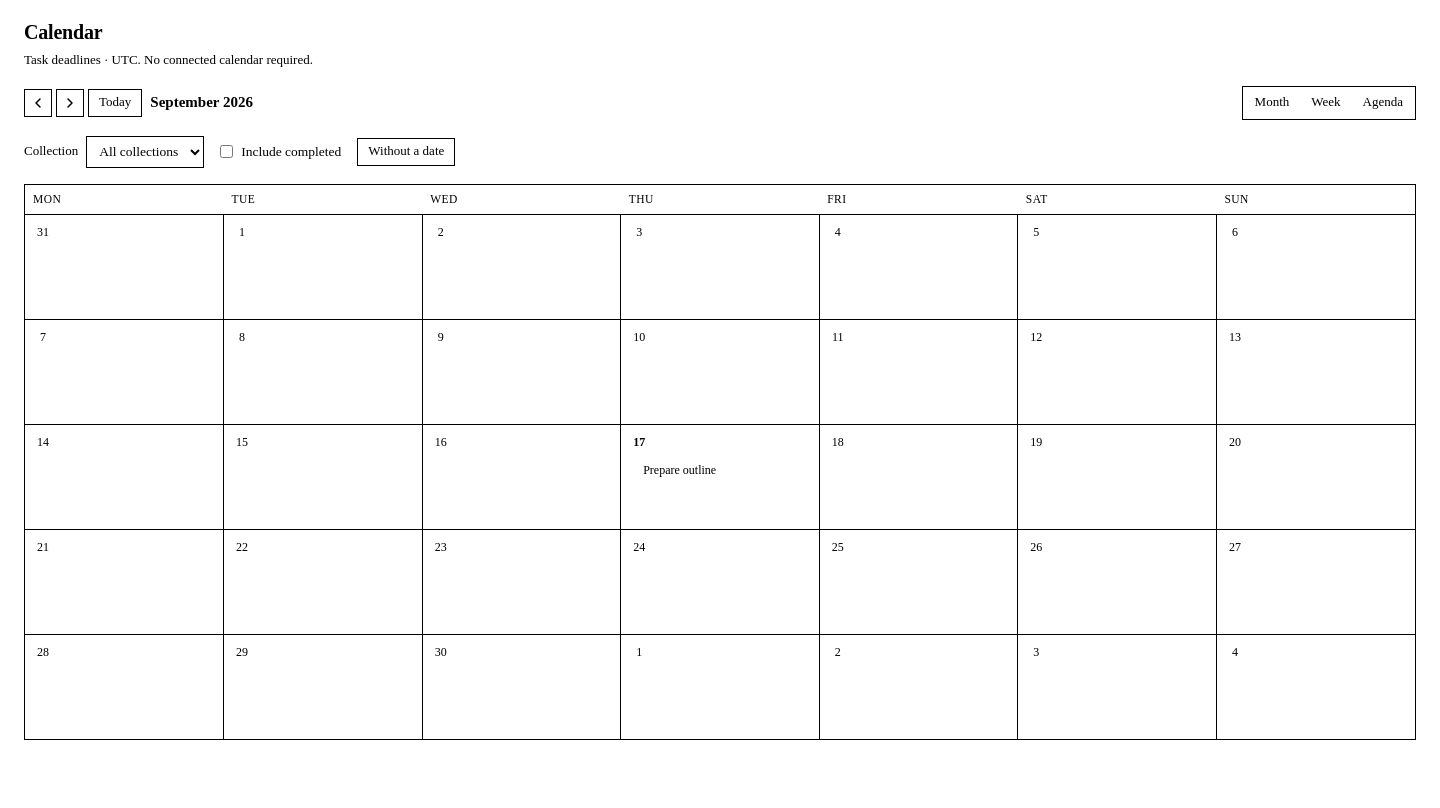
Test: deadline calendar › opens the existing schedule editor from a named Change date, without mutating on open
Click the button "17" at (639, 442), box [627,430,651,454]
(page scrolled)
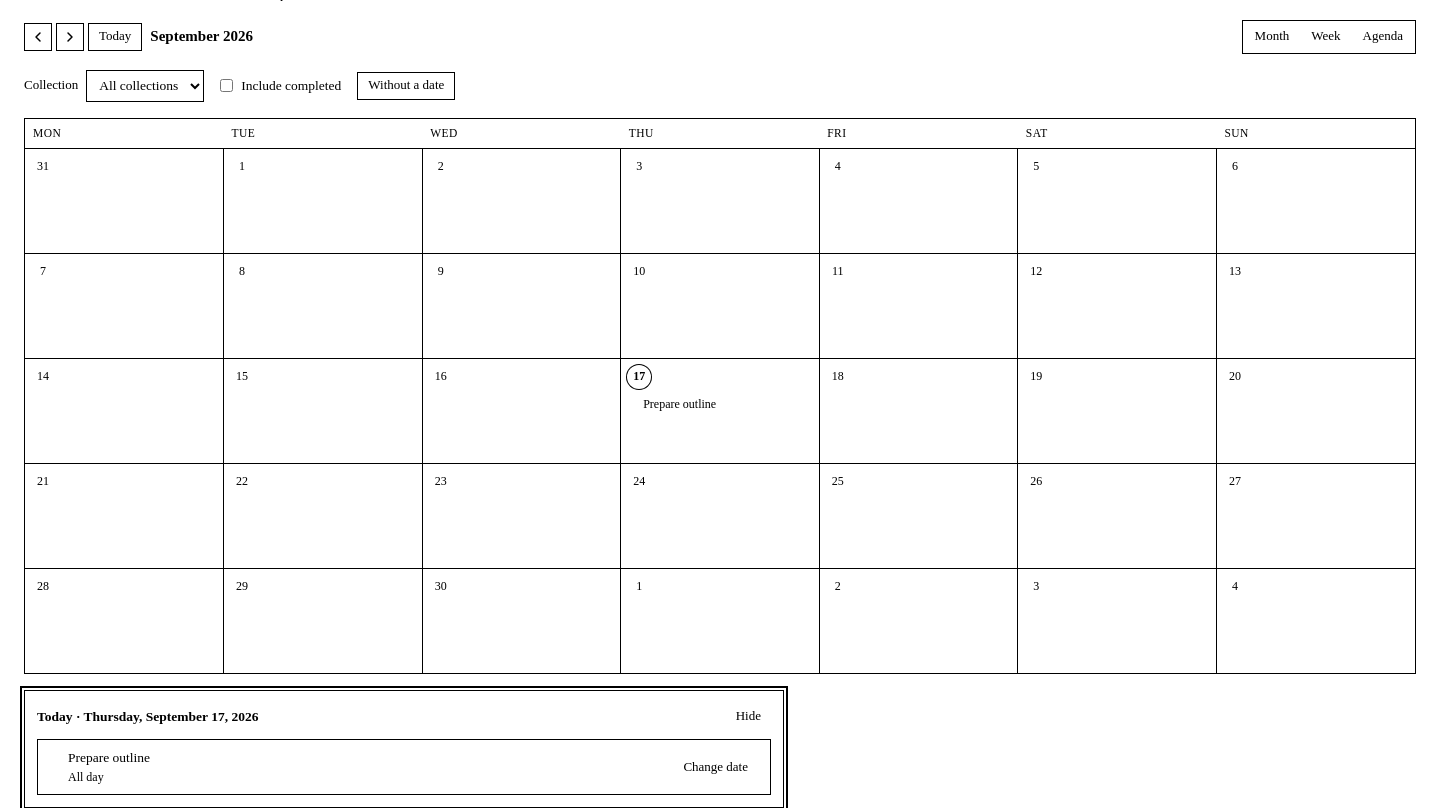
Click the button named "Change date for Prepare outline" at (716, 767), box [673,753,758,781]
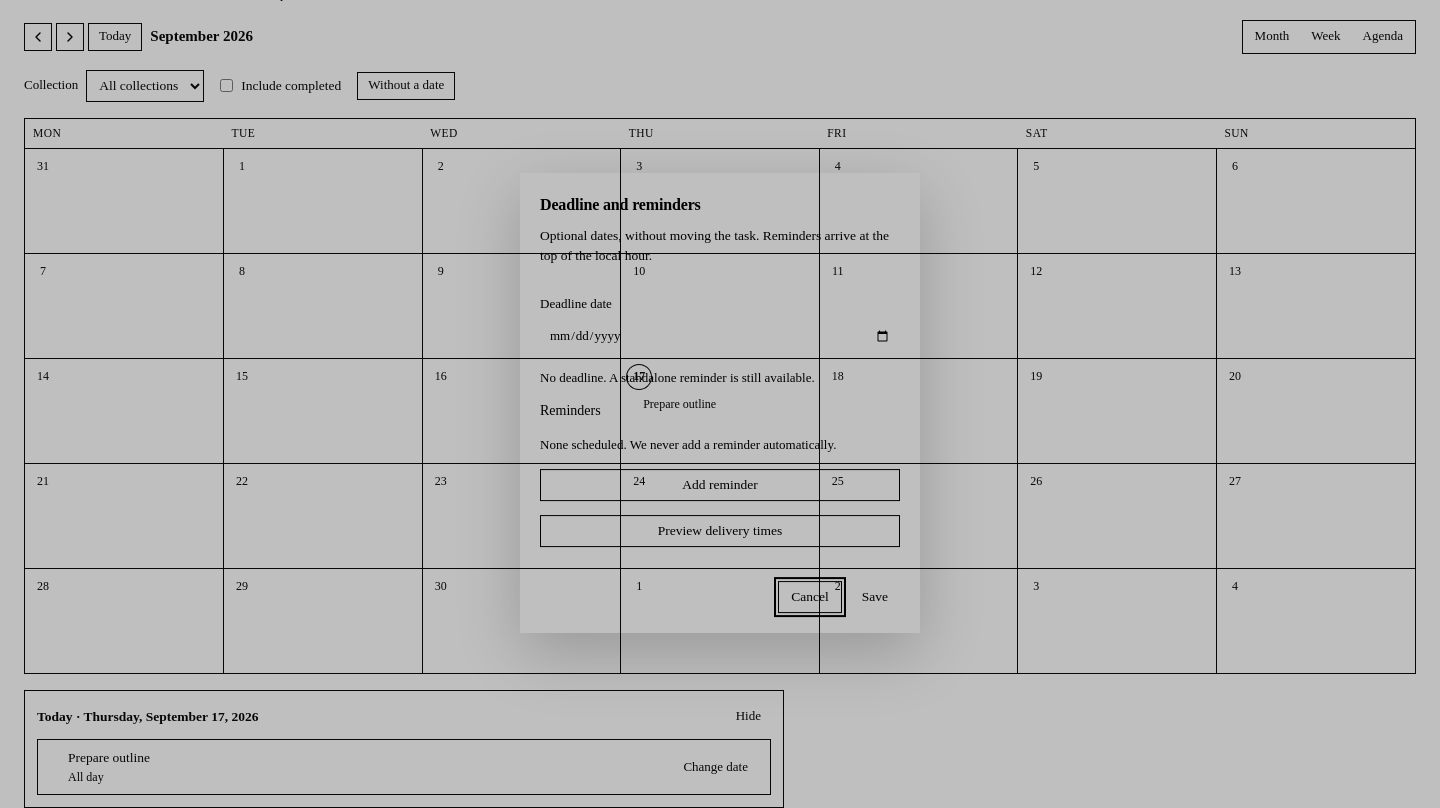
Expected: the dialog "Deadline and reminders" is shown, [520,173,920,633]
